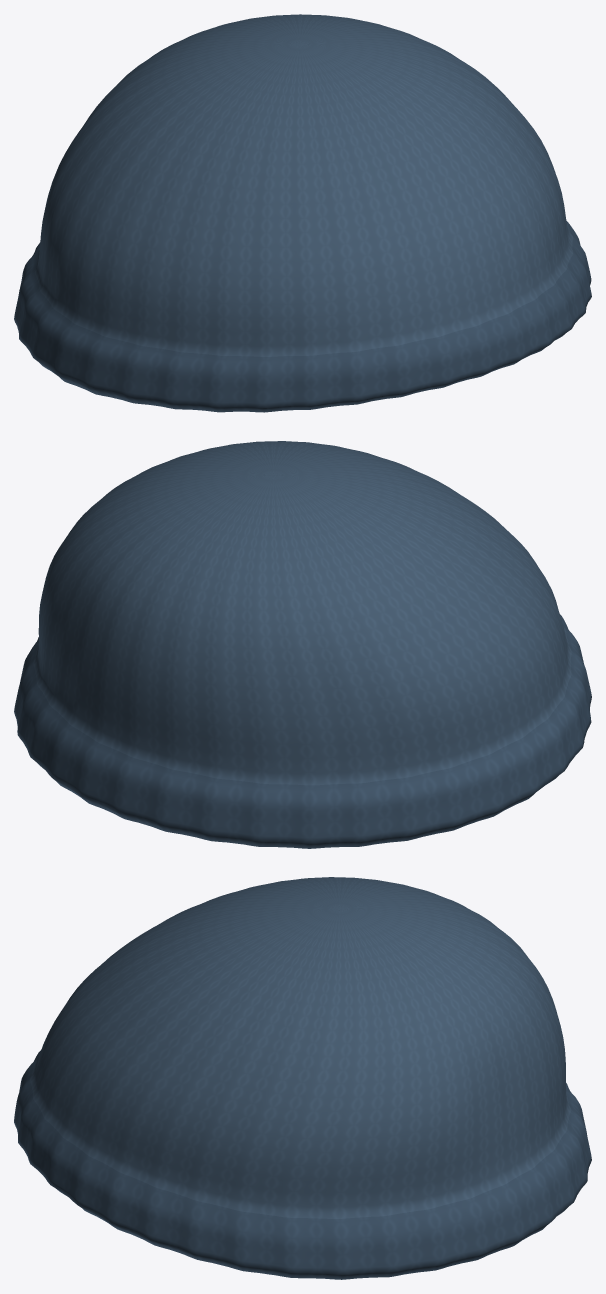
The model's file is beanie-masculine-buzz.glb.
3 views of the same model, one above another, from view 1: azimuth 30°, elevation 25°; view 2: azimuth 150°, elevation 25°; view 3: azimuth 270°, elevation 25° (orthographic).
Parts seen in each view (by area): view 1: Beanie / fitted knit; view 2: Beanie / fitted knit; view 3: Beanie / fitted knit.
Boxes of the visible parts, x1,y1,x2,y2 form: Beanie / fitted knit: (14, 14, 591, 412); Beanie / fitted knit: (14, 441, 591, 848); Beanie / fitted knit: (14, 877, 591, 1279).
Bounding box in the file's own units: 0.812 × 0.4059 × 0.792.
Materials: 2 (2 with a texture image).
